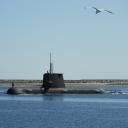submarine: (7, 53, 124, 95)
